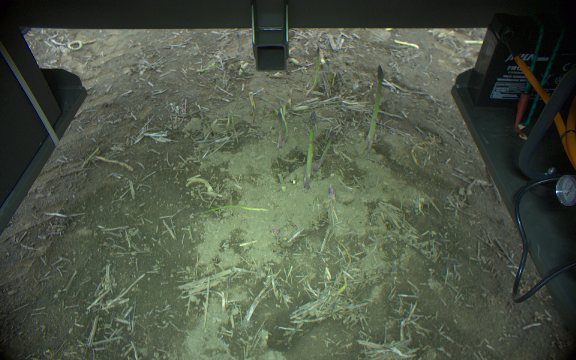aspa: (364, 64, 384, 148), (196, 202, 270, 218), (302, 111, 315, 190), (304, 45, 322, 98), (314, 129, 335, 174), (247, 92, 258, 122), (227, 105, 236, 130), (202, 116, 212, 137), (273, 110, 278, 147), (224, 109, 231, 132)
